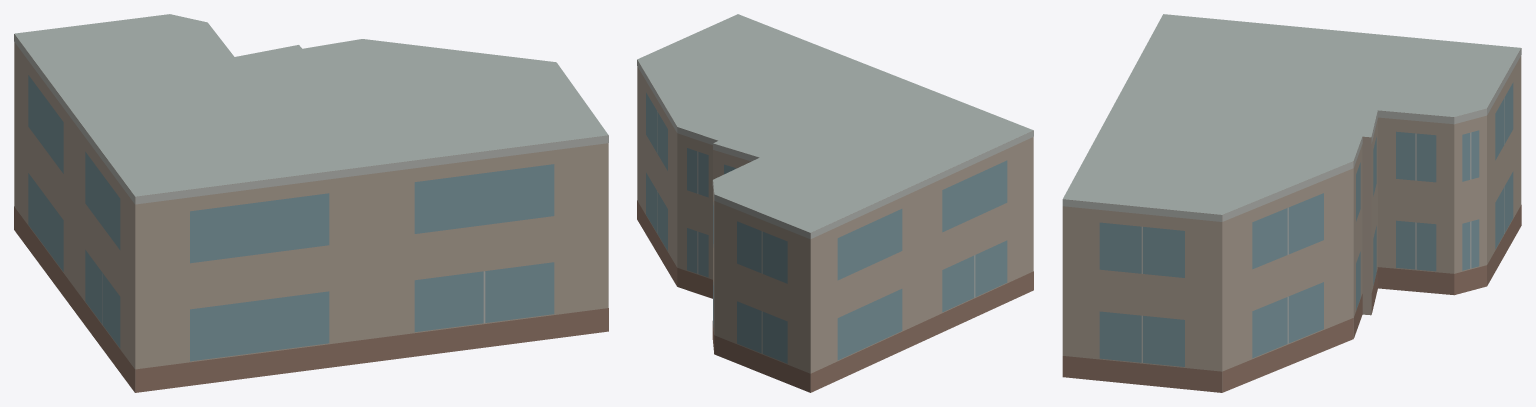
Rendered from survey-upis-32914167.glb.
3 renders of one model, left to right at view 1: azimuth 30°, elevation 25°; view 2: azimuth 150°, elevation 25°; view 3: azimuth 270°, elevation 25°, orthographic. The views are drawn at different scales.
Visible parts, largest first — view 1: survey-upis-32914167.tmp; view 2: survey-upis-32914167.tmp; view 3: survey-upis-32914167.tmp.
Boxes of the visible parts, x1=… form: survey-upis-32914167.tmp: x1=14, y1=14, x2=608, y2=392; survey-upis-32914167.tmp: x1=637, y1=14, x2=1033, y2=392; survey-upis-32914167.tmp: x1=1062, y1=14, x2=1521, y2=392.
Size of the model in its own units: 14.78 by 6.1 by 14.26.
